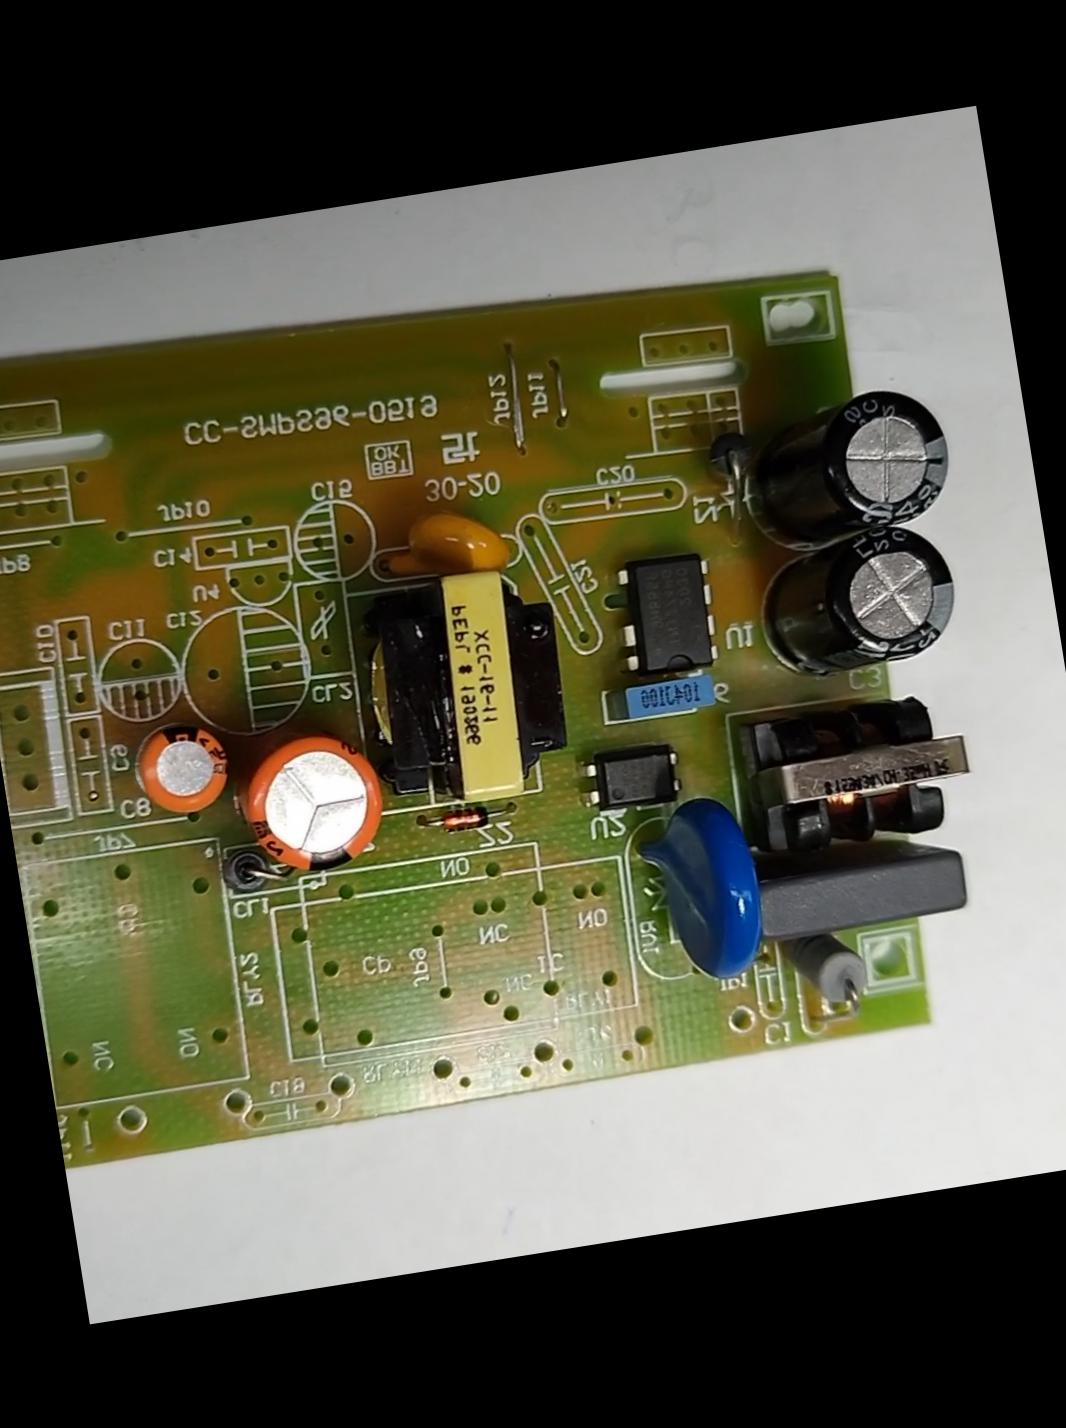Cap1: (225, 722, 395, 883)
Cap2: (128, 716, 237, 821)
Cap3: (754, 520, 970, 684)
Cap4: (744, 377, 960, 545)
MOSFET: (608, 548, 728, 681)
Mov: (620, 788, 772, 995)
Resistor: (776, 926, 876, 1018)
Transformer: (368, 558, 582, 813), (738, 687, 990, 867)
